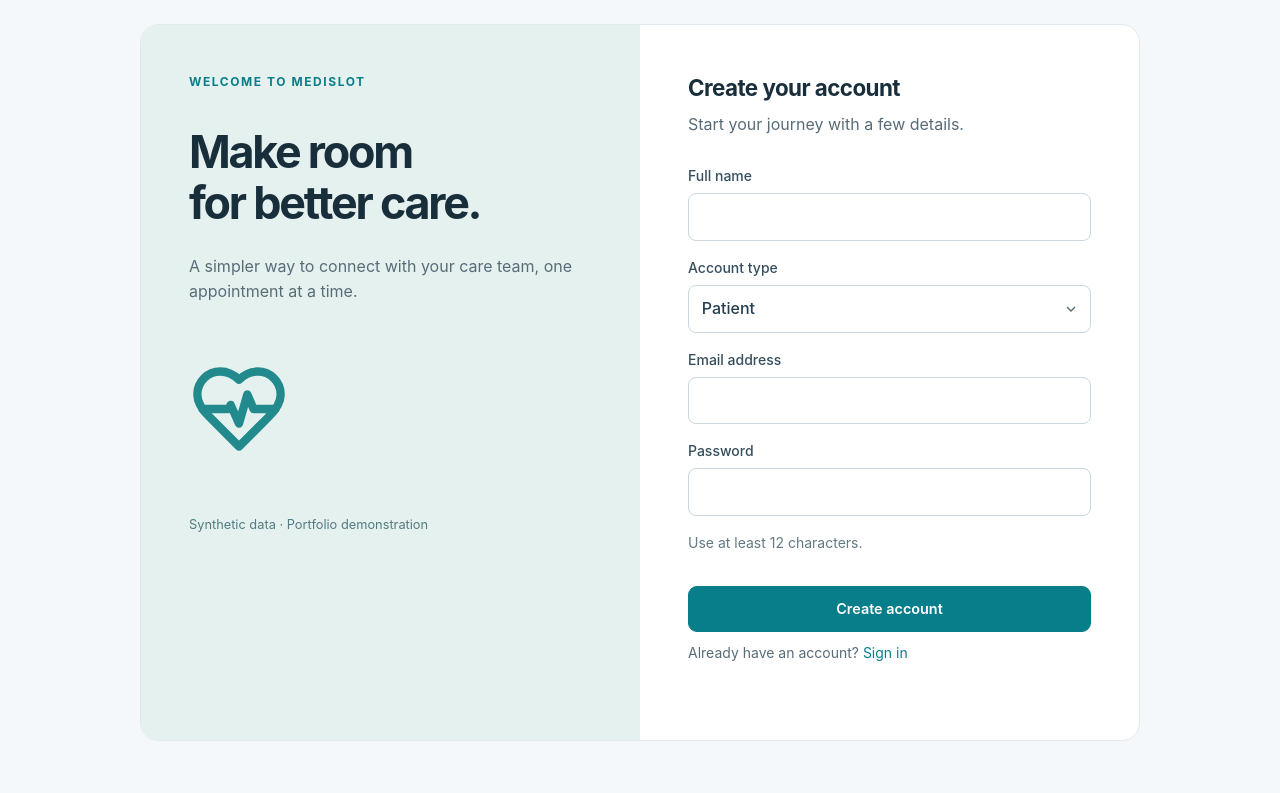
Scenario: forms and real API integration boundaries › validates registration password and shows doctor fields
Select "Doctor" in the dropdown labelled "Account type". click: (890, 309)
box: [688,285,1091,333]
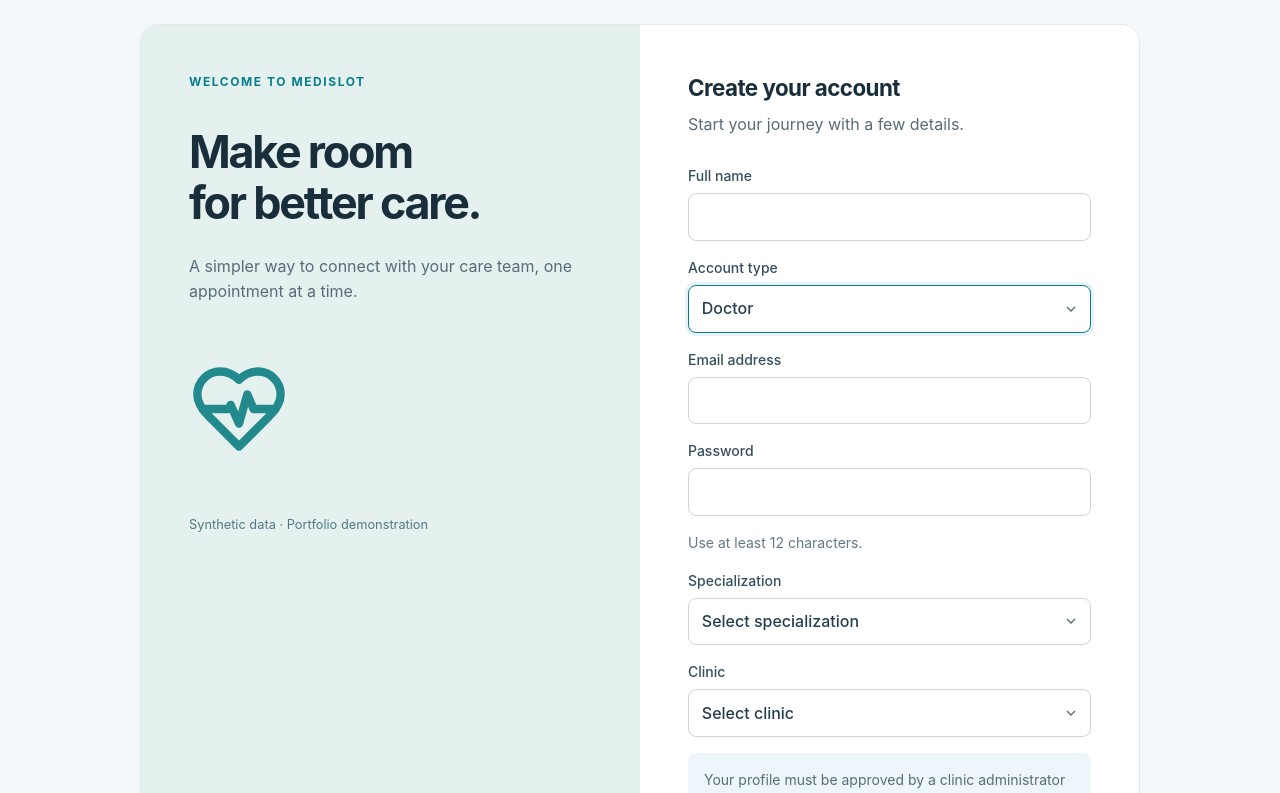
Result: the dropdown labelled "Specialization" is shown at [688,598,1091,645]
Type "Doctor Test" into the field labelled "Full name". click: (890, 217)
box: [688,193,1091,241]
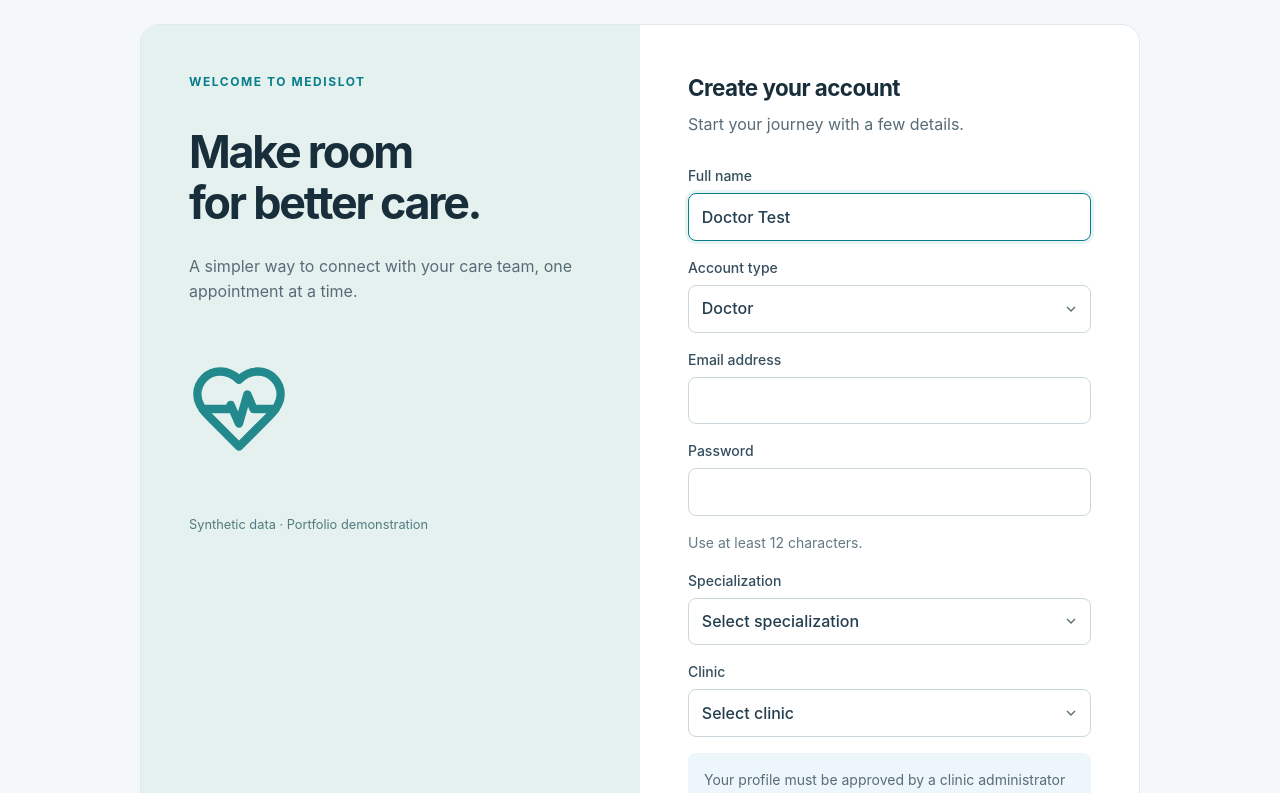
Type "doctor@example.com" into the field labelled "Email address". click: (890, 400)
box: [688,377,1091,424]
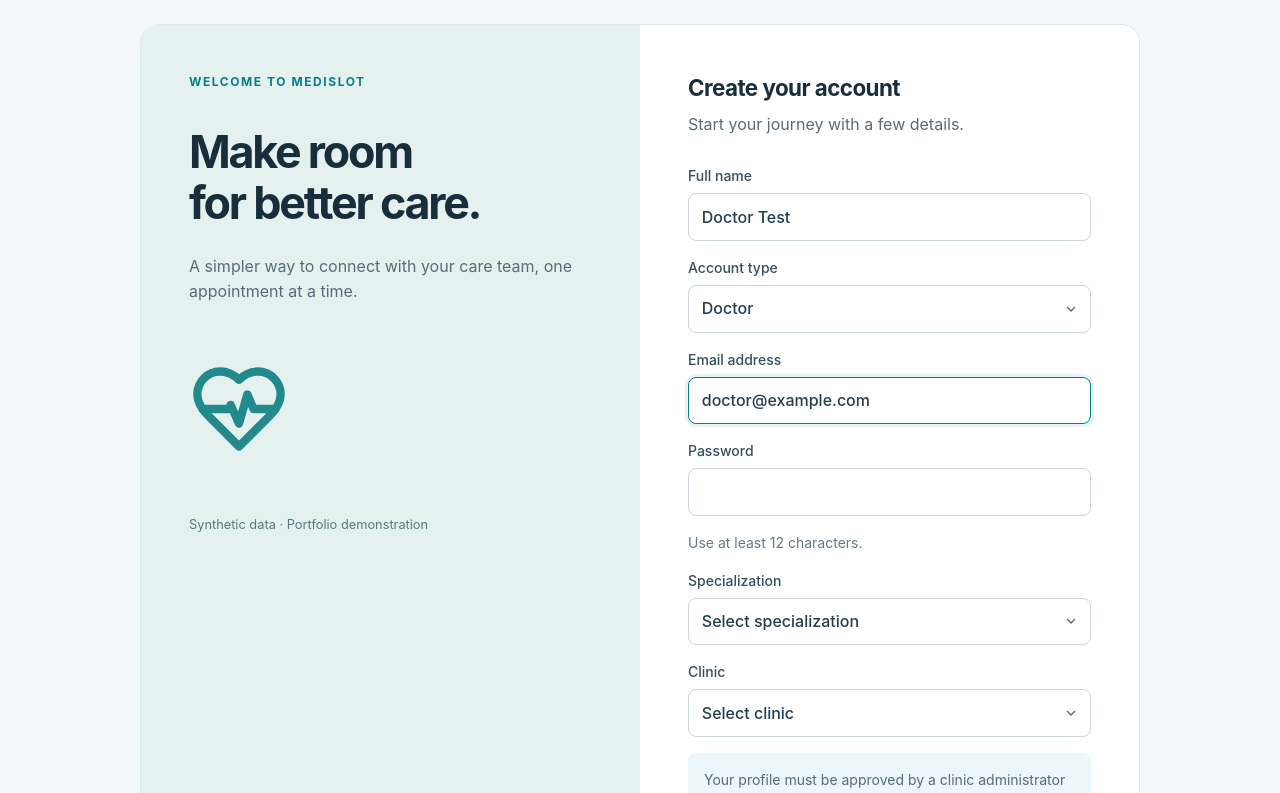
Type "short" into the password field labelled "Password". click: (890, 492)
box: [688,468,1091,516]
(page scrolled)
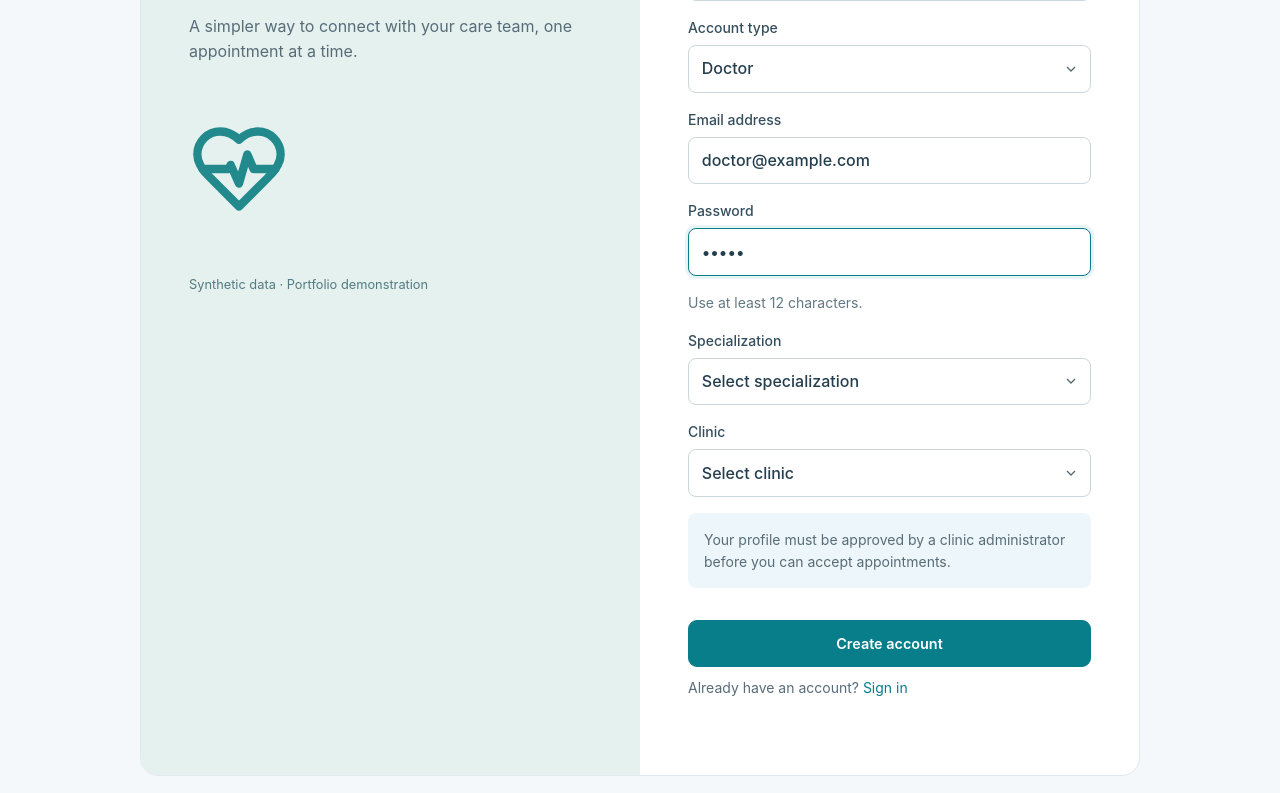
Click the button "Create account". click: (890, 644)
box: [688,620,1091,667]
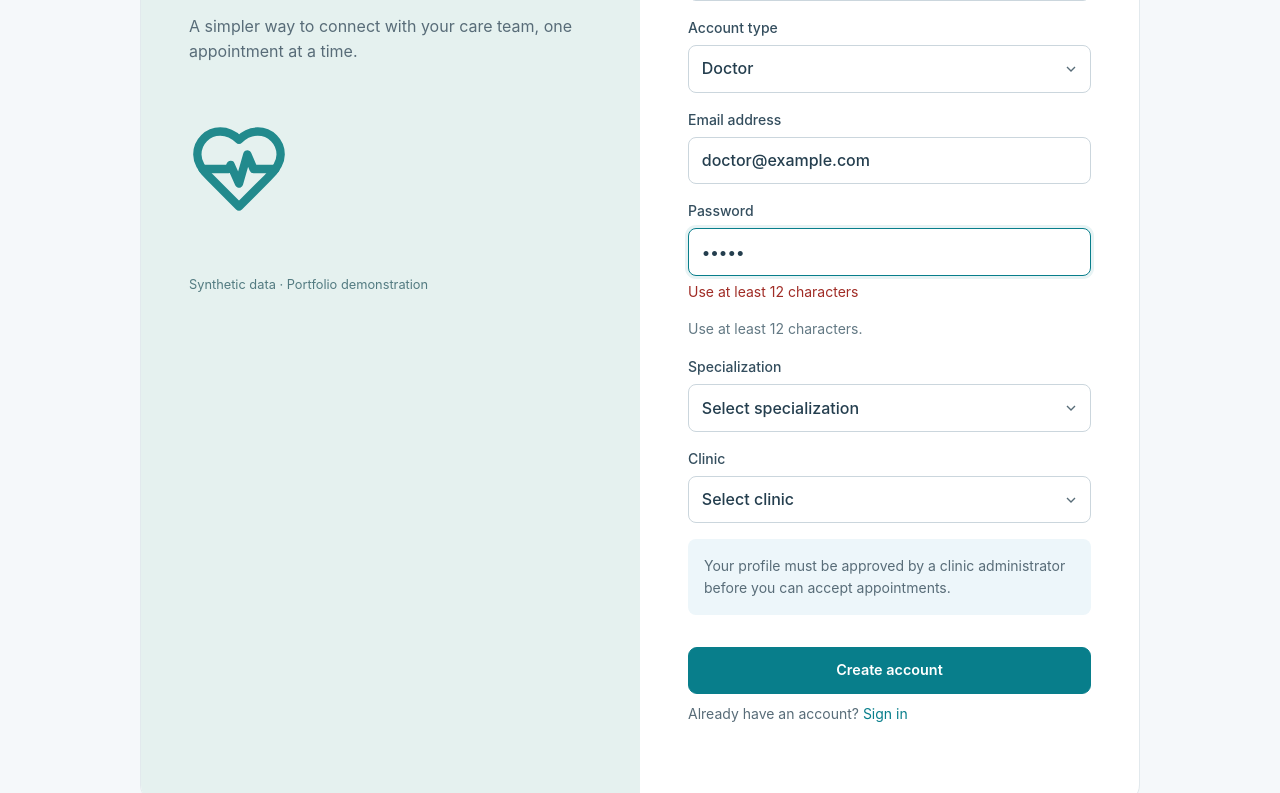
Result: the text "Use at least 12 characters" is shown at [688,283,858,300]
